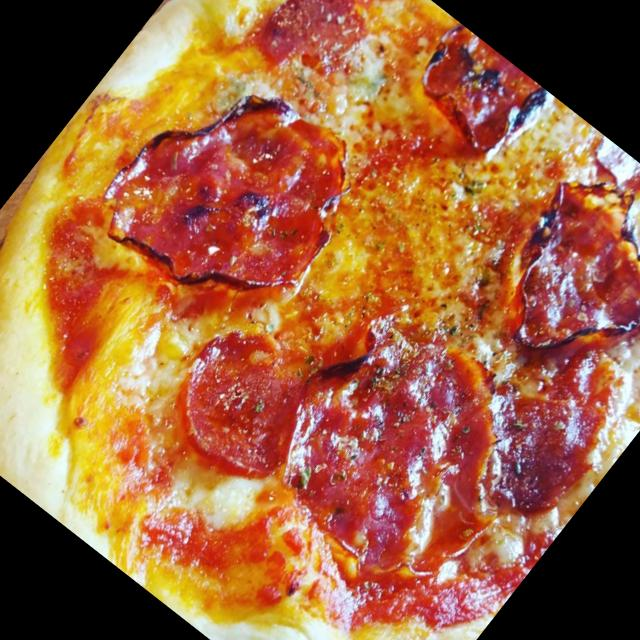pepperoni: (148, 306, 337, 496), (395, 18, 556, 173), (258, 0, 380, 89)
pizza: (0, 0, 640, 640)
